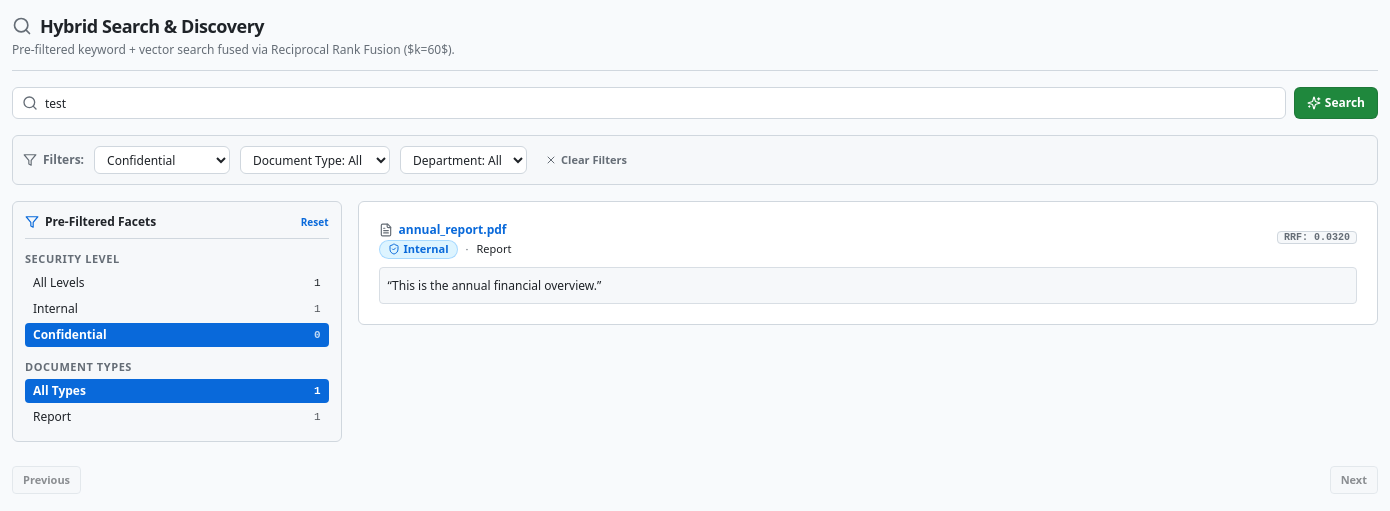
Test: SearchPage › allows clearing all filters with the clear button
Click the button with test id "search-clear-filters".
click(586, 160)  # box x1=537 y1=146 x2=635 y2=174
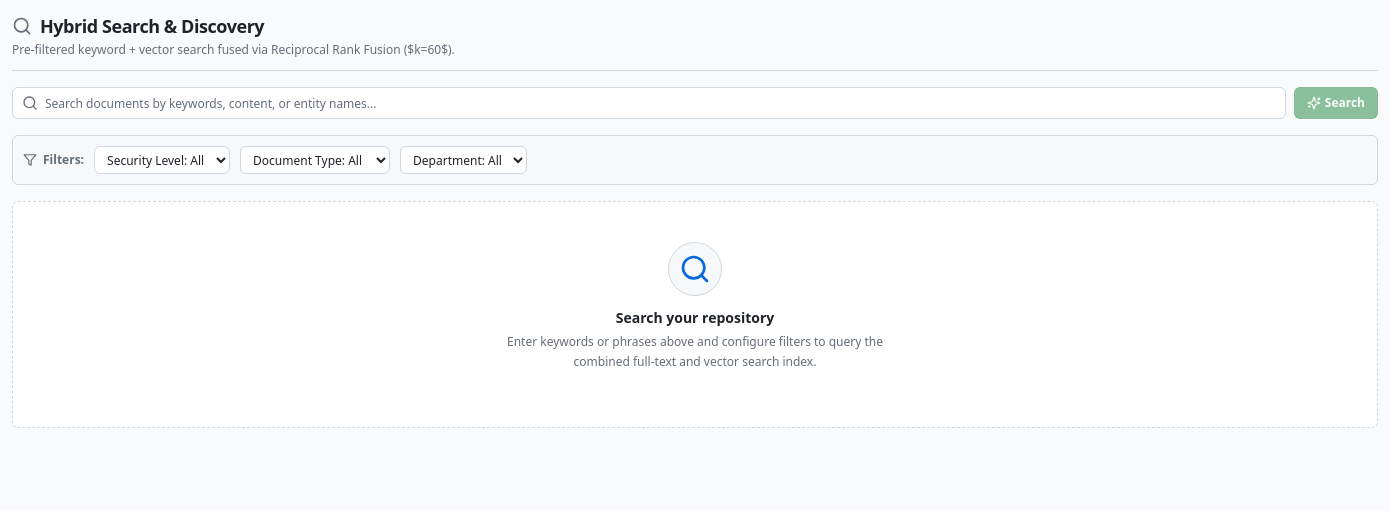
Expected: the field named "search query" is empty, x1=12 y1=87 x2=1286 y2=119
Expected: the button with test id "search-clear-filters" is gone
